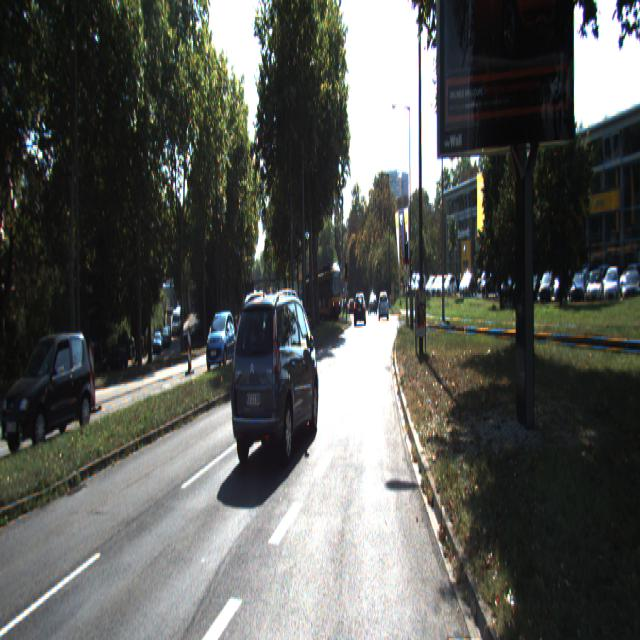Car: (230, 282, 320, 477), (0, 326, 94, 454), (308, 267, 342, 322), (206, 311, 237, 370), (260, 308, 280, 346), (354, 292, 366, 326), (378, 292, 388, 321)
